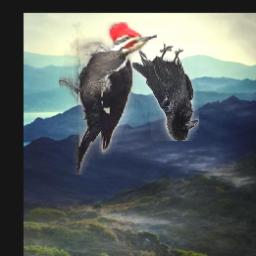Crow: (132, 42, 199, 141)
Woodpecker: (59, 22, 157, 175)
